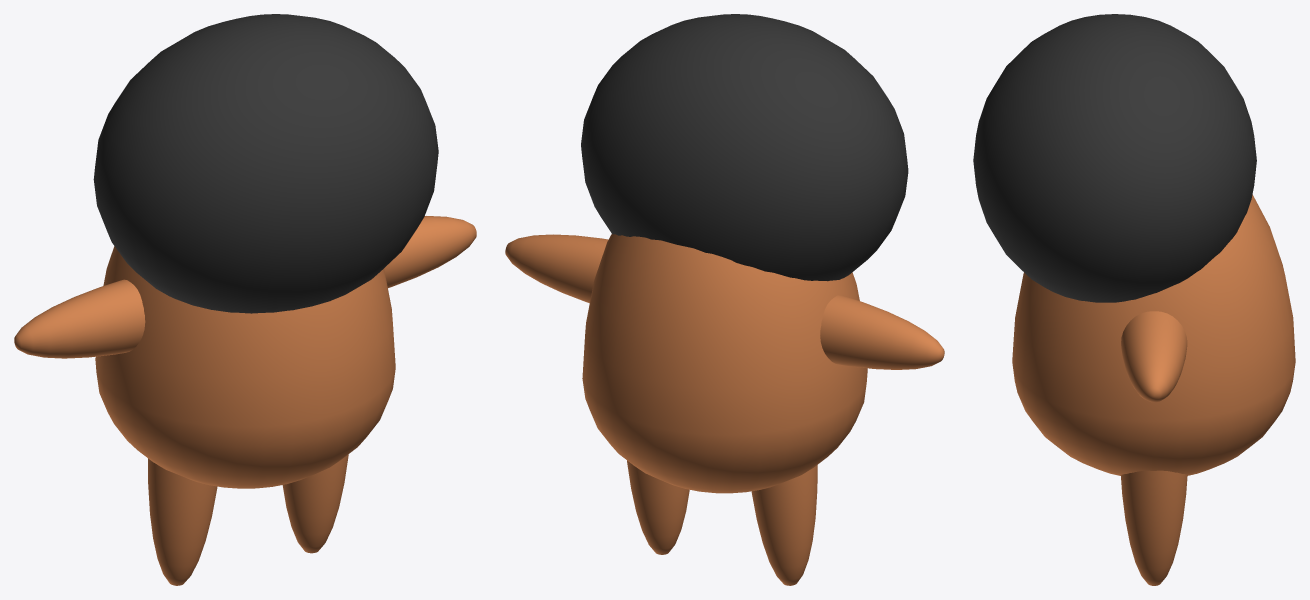
Rendered from Poto.fbx.
3 renders of one model, left to right at view 1: azimuth 30°, elevation 25°; view 2: azimuth 150°, elevation 25°; view 3: azimuth 270°, elevation 25°, orthographic. The views are drawn at different scales.
Parts seen in each view (by area): view 1: Corpo_Baixo; view 2: Corpo_Baixo; view 3: Corpo_Baixo.
Part boxes in pixels (box(x1,y1,x2,y2)): Corpo_Baixo: box(14, 14, 476, 585); Corpo_Baixo: box(505, 14, 944, 585); Corpo_Baixo: box(973, 14, 1295, 585).
Bounding box in the file's own units: 354 × 407 × 227.
